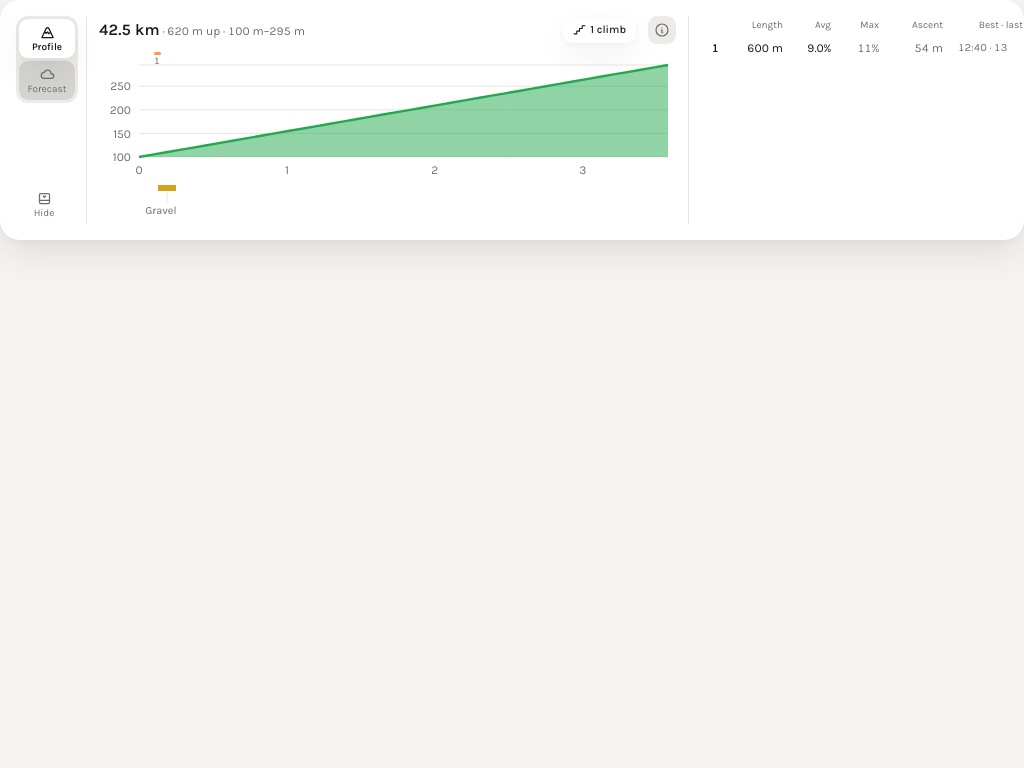
Test: RouteDock › lists the steepness bands behind the profile info control
What coordinates should you click on to do the following:
click the button named "More about this"
I would click on:
 (662, 30)
Its box is [648, 16, 676, 44].
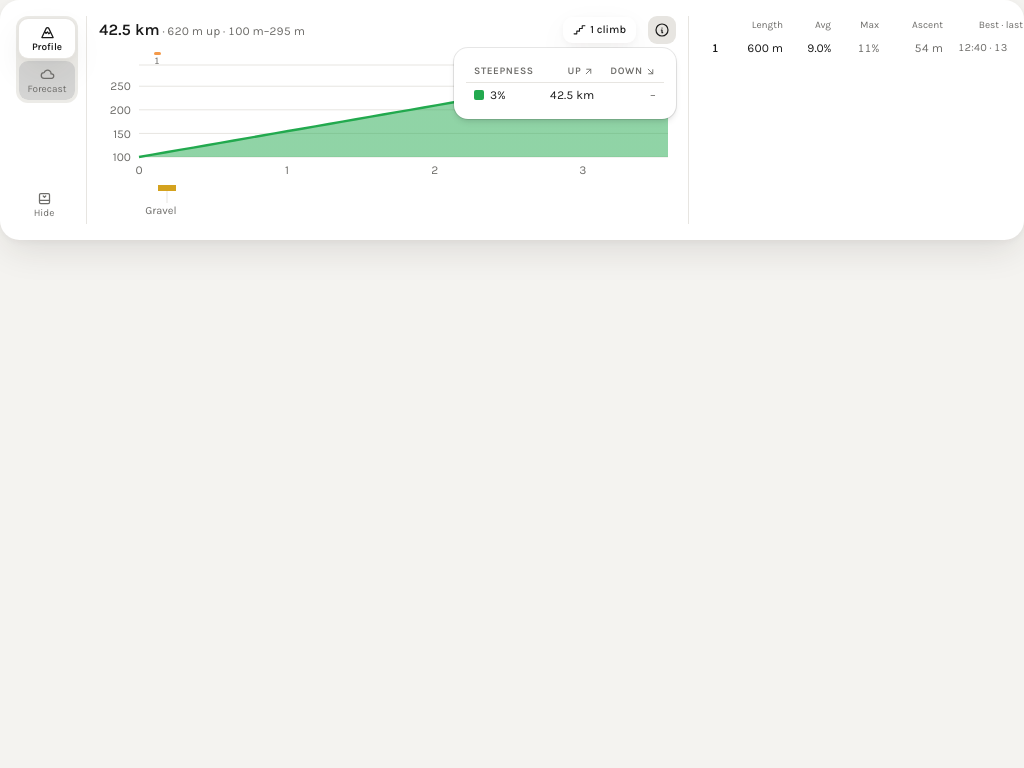
Expected: the column heading "Steepness" is shown, [466, 60, 542, 83]
Expected: the column heading "Up" is shown, [542, 60, 602, 83]
